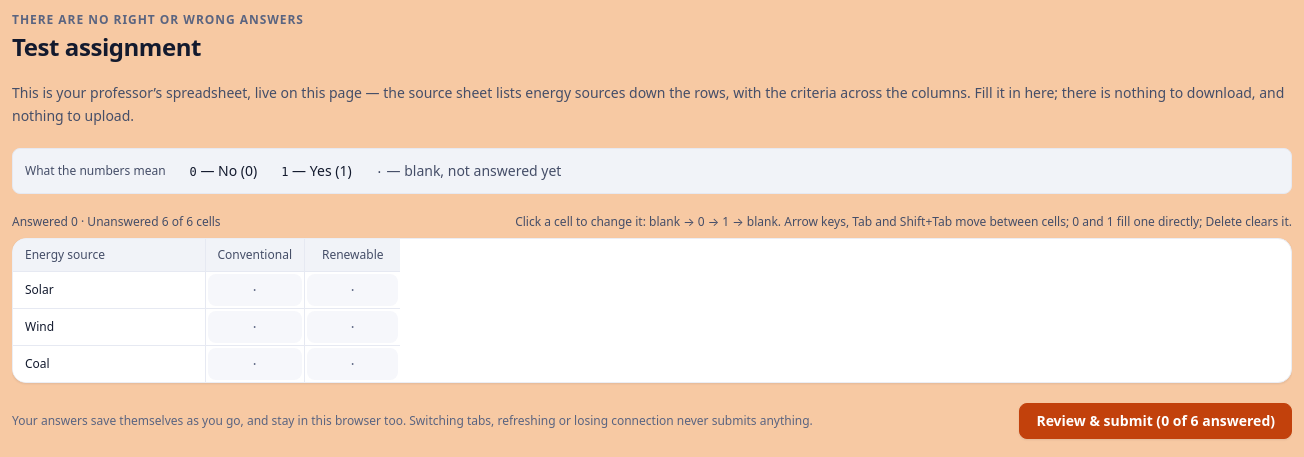
Test: transient failures › retry silently: nothing but 'Saving…' until it lands, then 'Saved'
The width and height of the screenshot is (1304, 457).
Click the button named "Solar — Conventional" at point(255, 290), box 208,274 -> 302,306
Wait 10800 ms
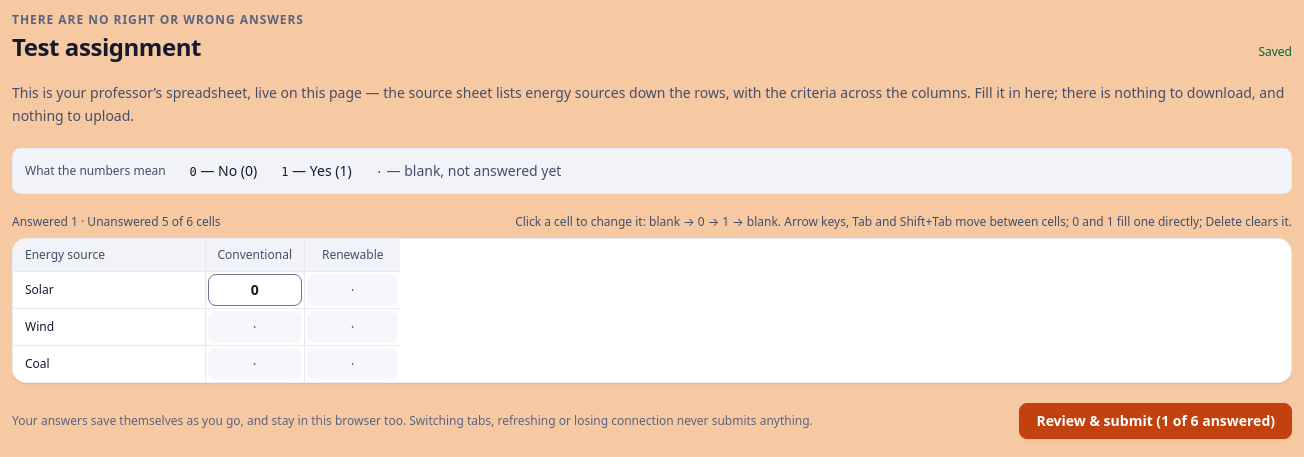
Expected: the text "Saved" is shown, 1258,44 -> 1292,60
